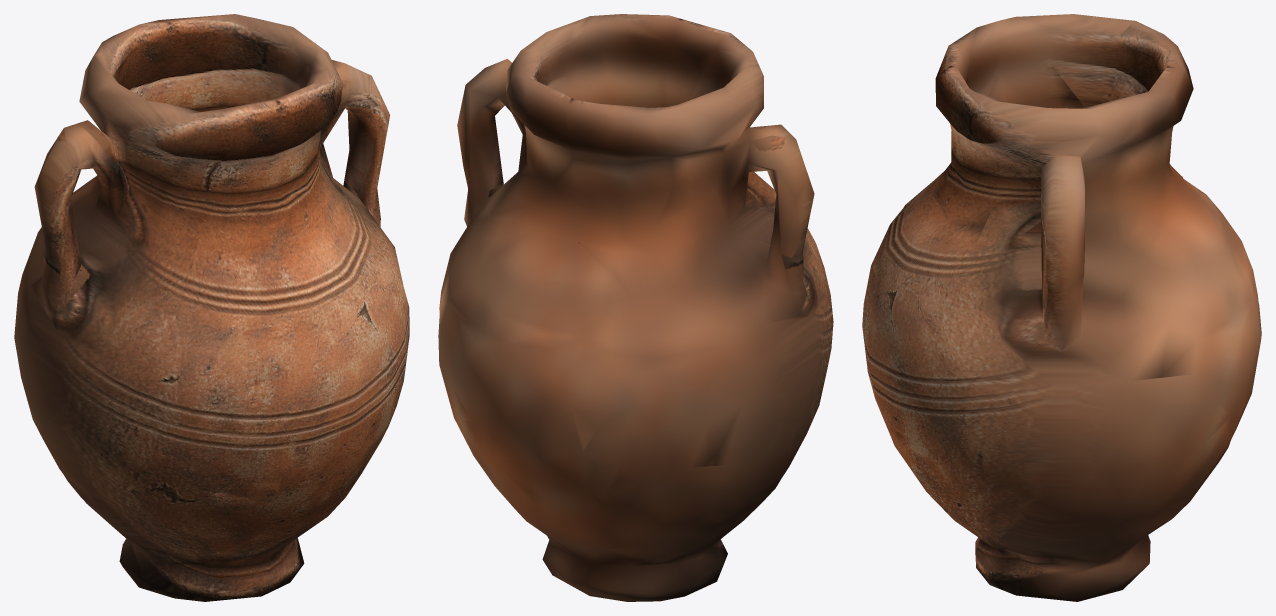
File: urn.glb
The picture shows the model from 3 angles, left to right: view 1: azimuth 30°, elevation 25°; view 2: azimuth 150°, elevation 25°; view 3: azimuth 270°, elevation 25°; orthographic projection.
Visible parts, largest first — view 1: urn; view 2: urn; view 3: urn.
Part boxes in pixels (box(x1,y1,x2,y2)): urn: box(14, 14, 409, 601); urn: box(438, 14, 833, 601); urn: box(862, 14, 1261, 601).
Bounding box in the file's own units: 0.2892 × 0.4049 × 0.2892.
Materials: 1 (1 with a texture image).
